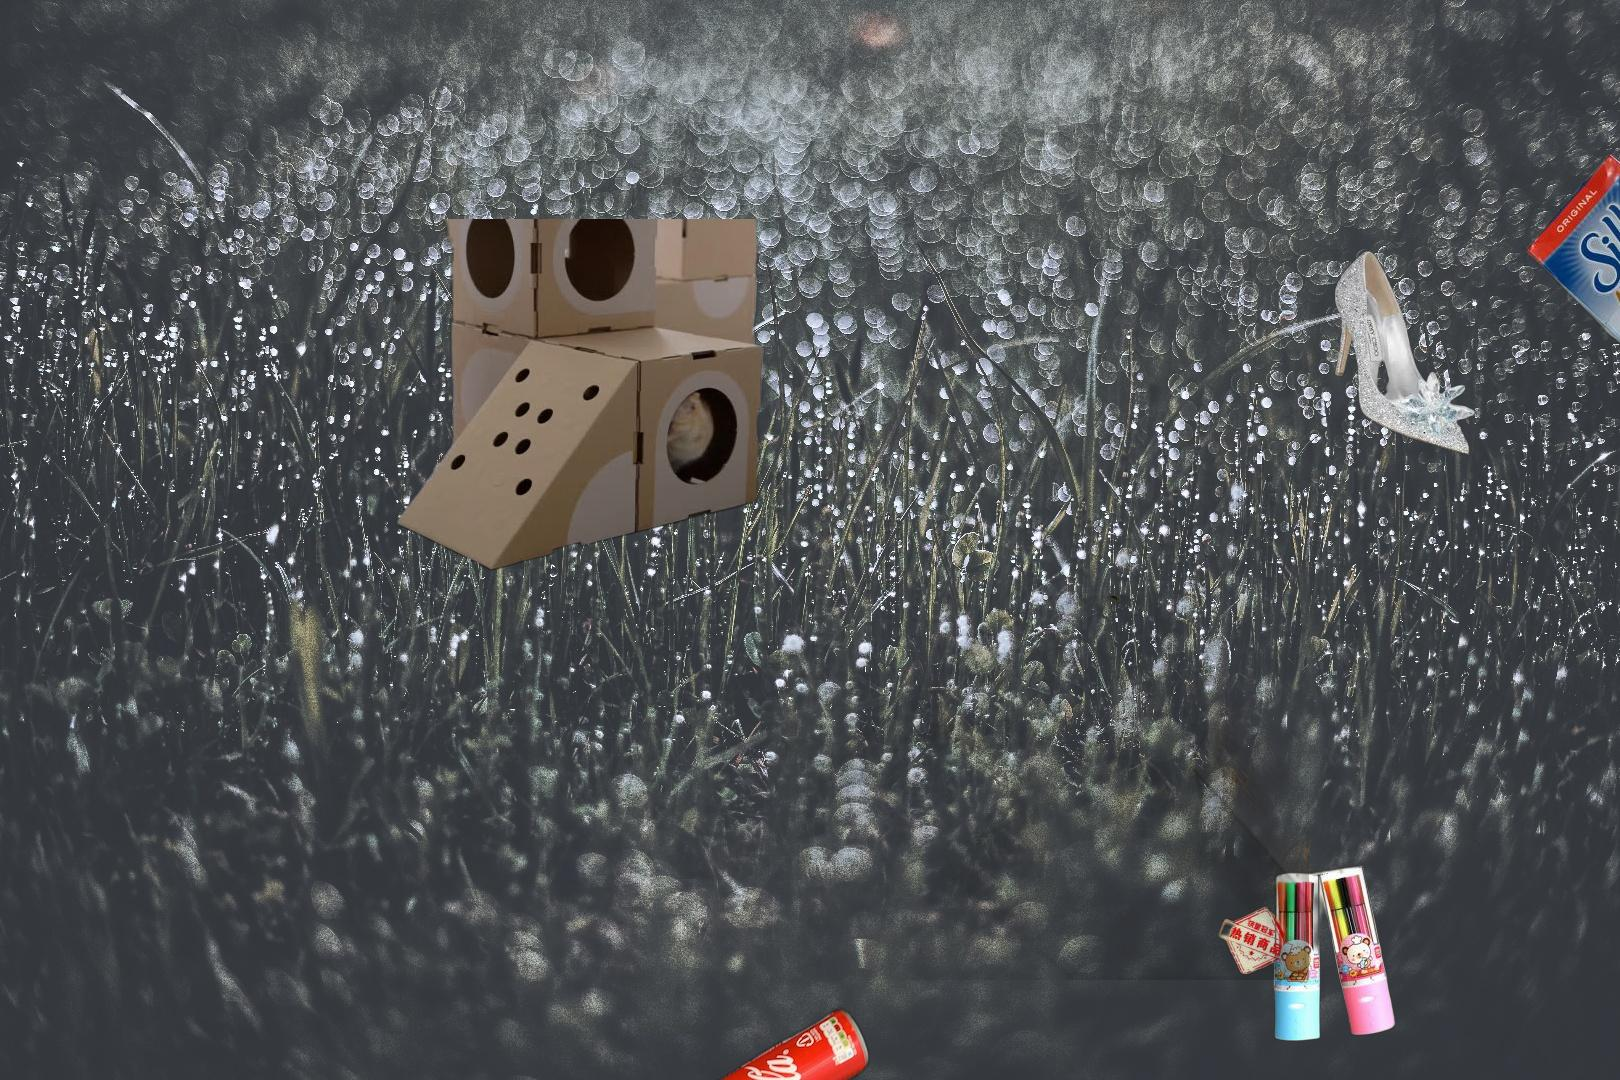glass: (797, 595, 1309, 980)
metal-cans: (480, 1003, 874, 1080)
paper: (1521, 149, 1620, 447)
penholder: (1215, 861, 1398, 1044)
shoes: (1332, 250, 1478, 458)
trashbox-cardboard: (381, 219, 770, 573)
